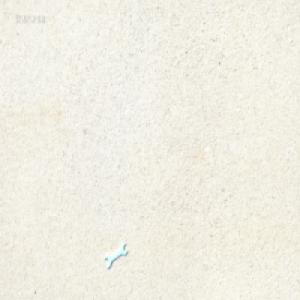Wrench: (105, 241, 127, 269)
